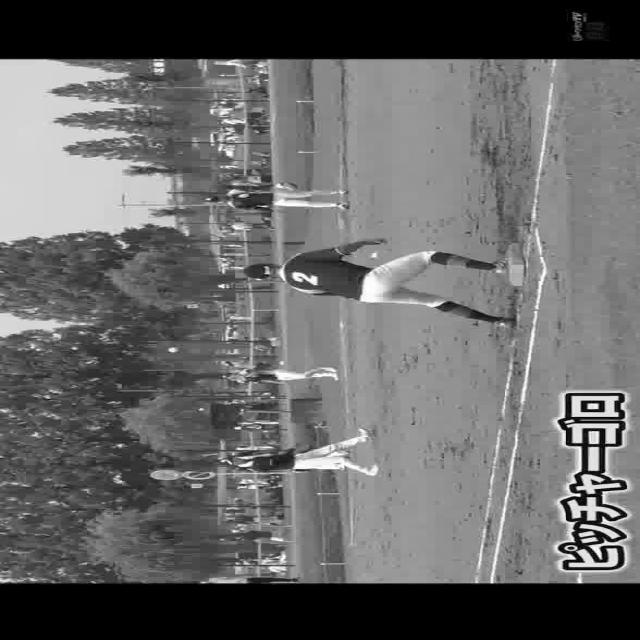base: (508, 238, 526, 287)
baseball: (167, 346, 177, 352)
baseball_glove: (291, 439, 314, 452)
shoe: (490, 252, 508, 274), (364, 462, 384, 478), (494, 314, 516, 328), (357, 424, 369, 440)
